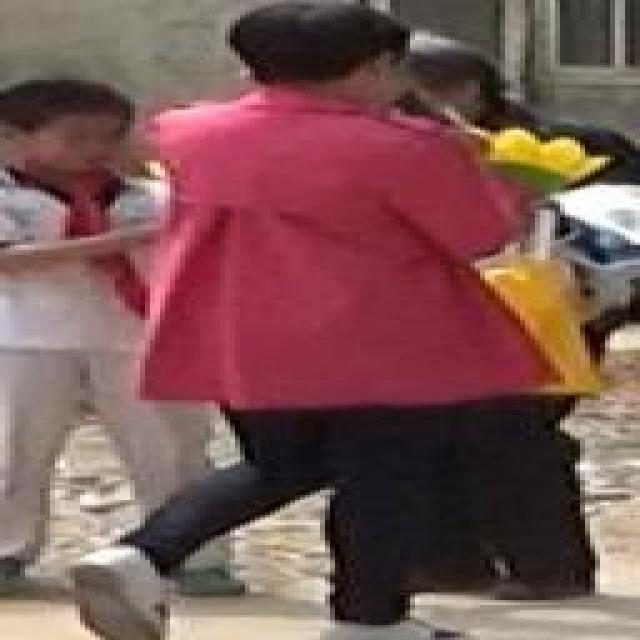adult: (127, 0, 537, 640)
child: (0, 82, 154, 590)
